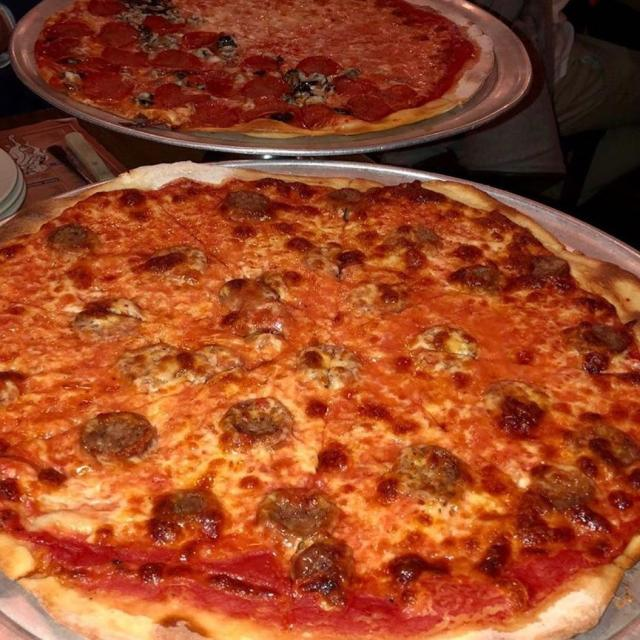pepperoni: (152, 84, 214, 107), (153, 48, 201, 76), (189, 68, 239, 94), (240, 76, 294, 100), (37, 40, 79, 69), (346, 95, 393, 119), (243, 100, 290, 124), (331, 74, 376, 99), (98, 22, 141, 48), (295, 56, 345, 78), (81, 71, 125, 95), (190, 108, 241, 128), (300, 102, 336, 130), (97, 48, 153, 66), (379, 82, 417, 105), (140, 16, 187, 34), (75, 57, 123, 74), (184, 30, 223, 50), (45, 22, 93, 38), (238, 55, 281, 72), (85, 0, 127, 17)
pizza: (0, 165, 640, 640), (34, 0, 496, 140)
